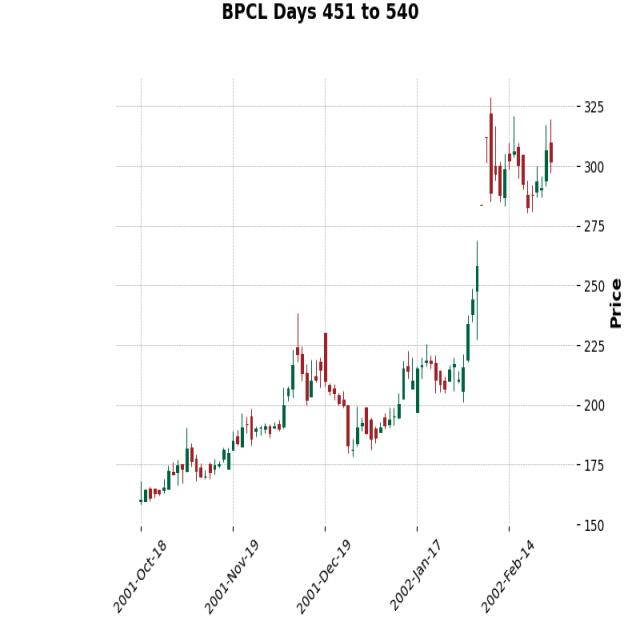Ascending Triangle: (165, 319, 333, 486)
